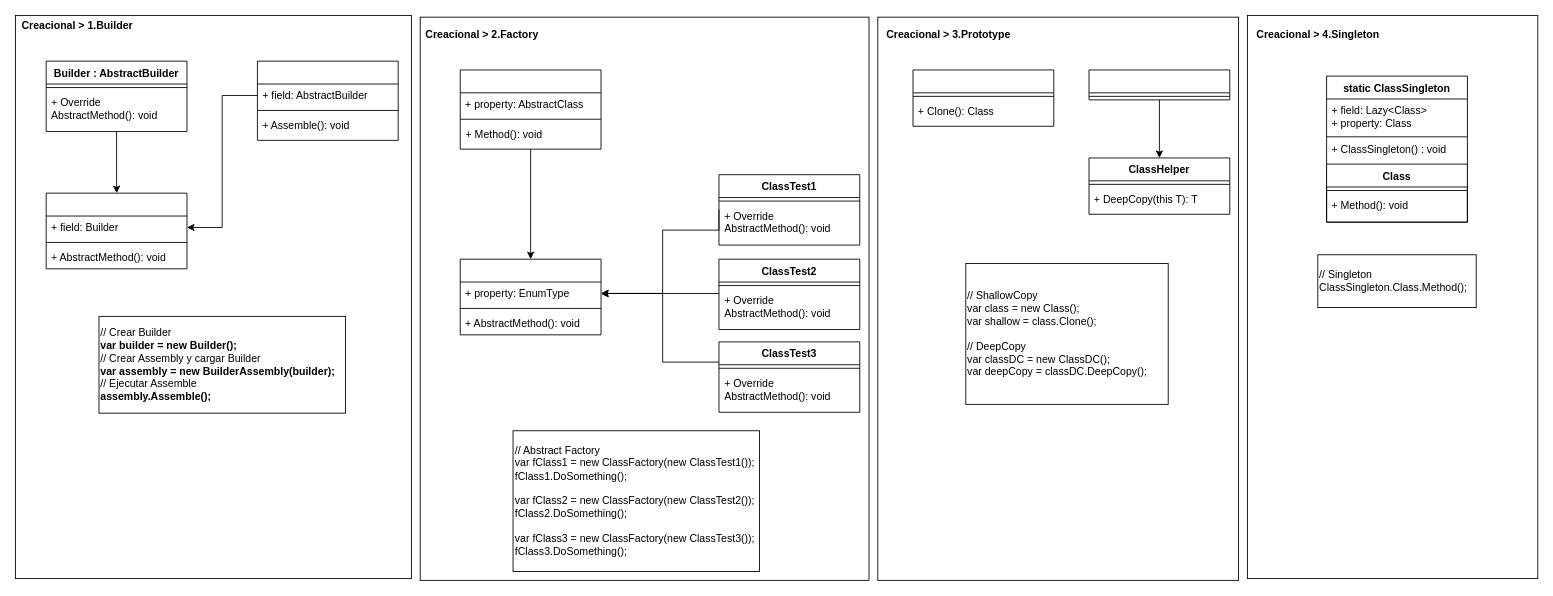
Image size: 1553x596. Some labels were removed from this diagram. The shapes that lost their labels are listed below. From the top down, each one's box as (x1, y1, x2, y2) in pixels, then its label:
(257, 60, 398, 140): BuilderAssembly
(912, 69, 1054, 126): Class : ICloneable
(1088, 69, 1230, 100): ClassDC
(459, 69, 601, 149): ClassFactory
(45, 192, 187, 269): AbstractBuilder
(459, 258, 601, 335): AbstractClass
